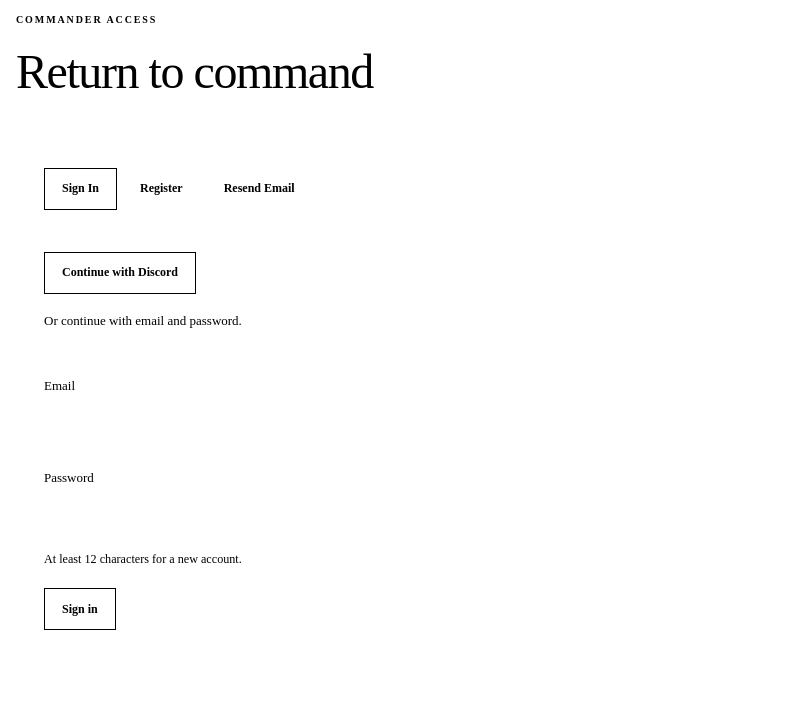
it: Discord sign-in › displays provider errors and allows retry
Step 1. Click the button "Continue with Discord" → (120, 273), box [44,252,196,294]
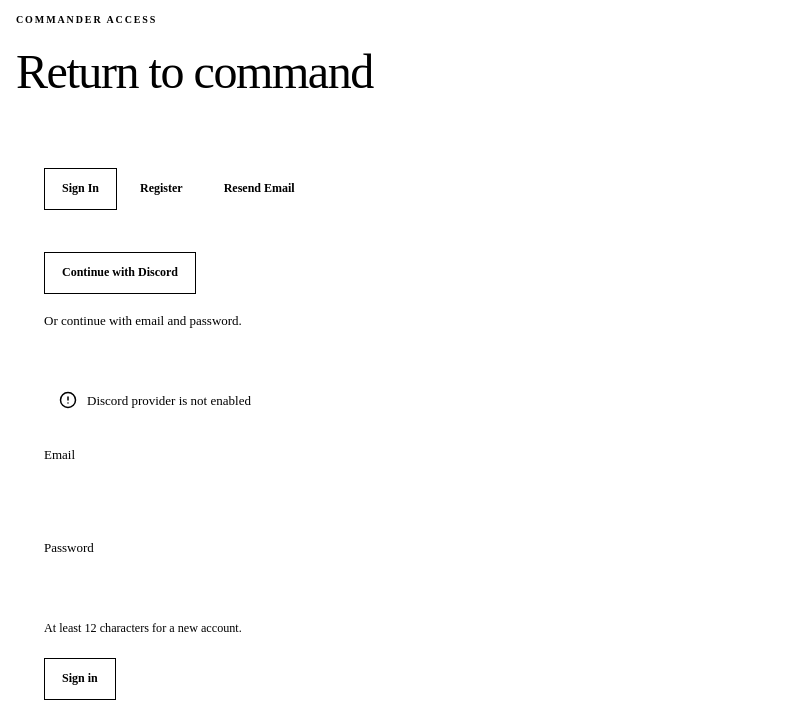
Now the message reads "Discord provider is not enabled", box [87,393,251,408]
